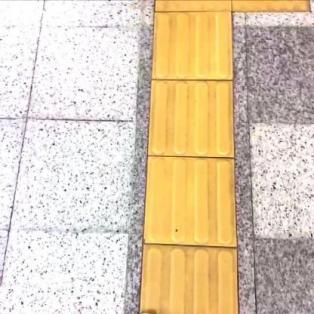Podoctatil: (139, 12, 238, 313)
